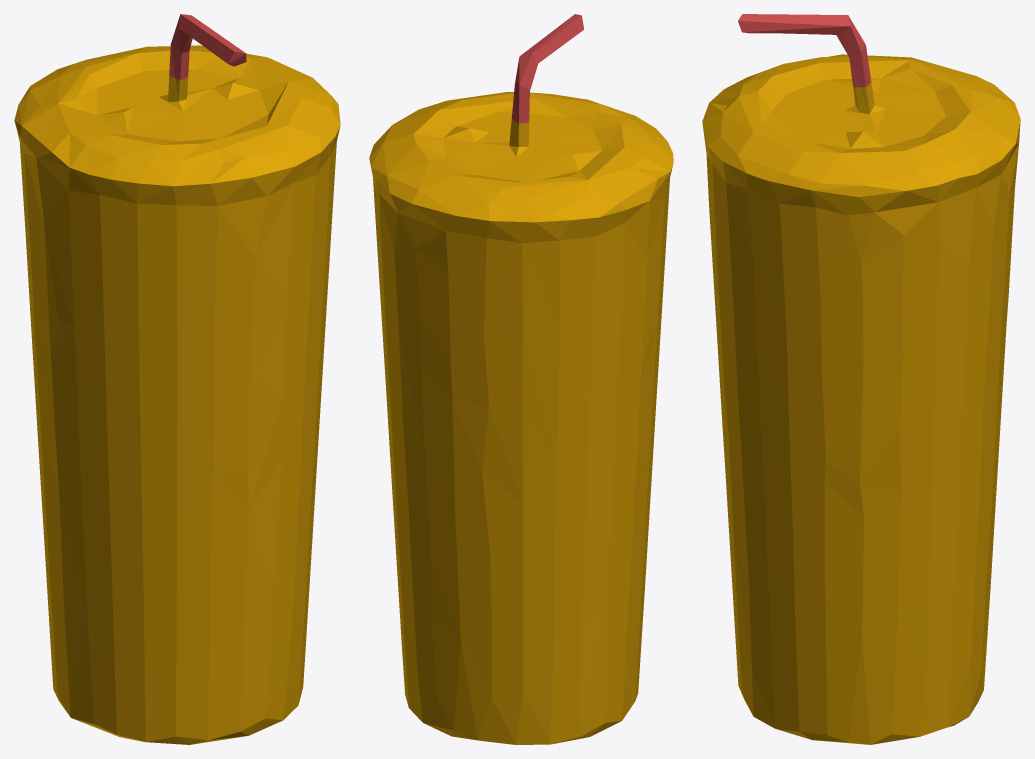
File: fractured_79_2pcs.glb
3 renders of one model, left to right at view 1: azimuth 30°, elevation 25°; view 2: azimuth 150°, elevation 25°; view 3: azimuth 270°, elevation 25°, orthographic. The views are drawn at different scales.
Parts seen in each view (by area): view 1: piece_0.obj, piece_1.obj; view 2: piece_0.obj, piece_1.obj; view 3: piece_0.obj, piece_1.obj.
Part boxes in pixels (x1=…): piece_0.obj: x1=14, y1=45, x2=340, y2=744; piece_1.obj: x1=169, y1=14, x2=246, y2=79; piece_0.obj: x1=369, y1=92, x2=673, y2=744; piece_1.obj: x1=511, y1=14, x2=584, y2=123; piece_0.obj: x1=702, y1=54, x2=1020, y2=744; piece_1.obj: x1=738, y1=14, x2=871, y2=87.
Bounding box in the file's own units: 0.4212 × 1 × 0.4216.
